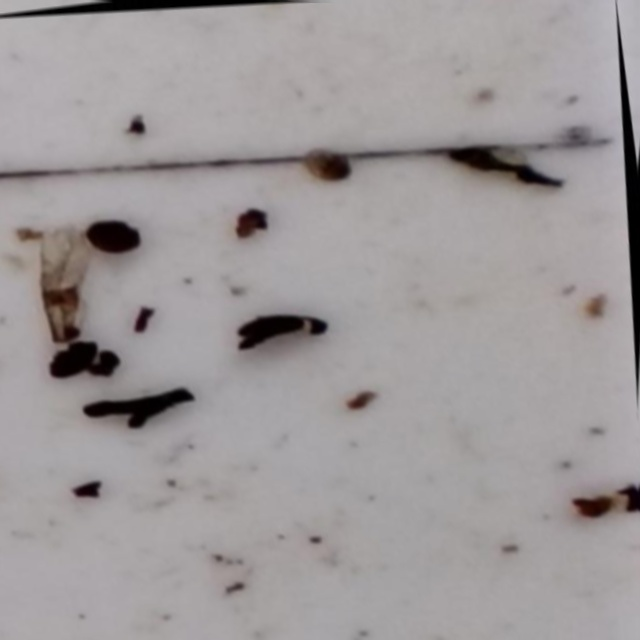varroa: (88, 215, 152, 255)
